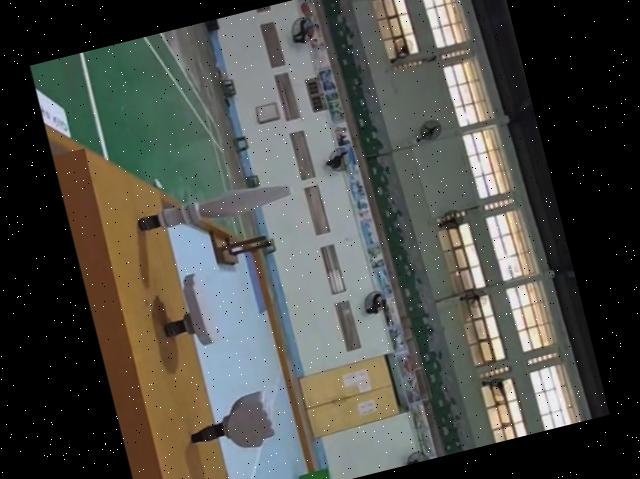Fist: (182, 382, 282, 461)
Hand: (149, 265, 223, 354)
Sph: (129, 171, 297, 245)
